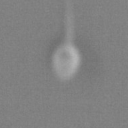normal: (60, 1, 79, 43)
